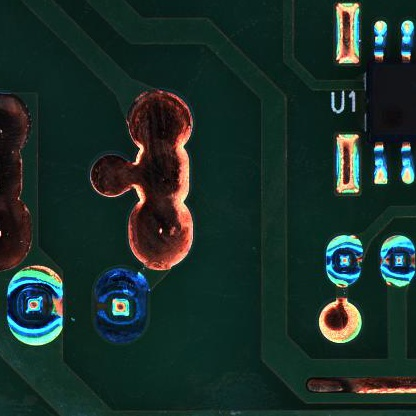spot: (7, 264, 63, 349), (93, 268, 150, 347), (324, 232, 364, 289), (379, 231, 416, 289)
